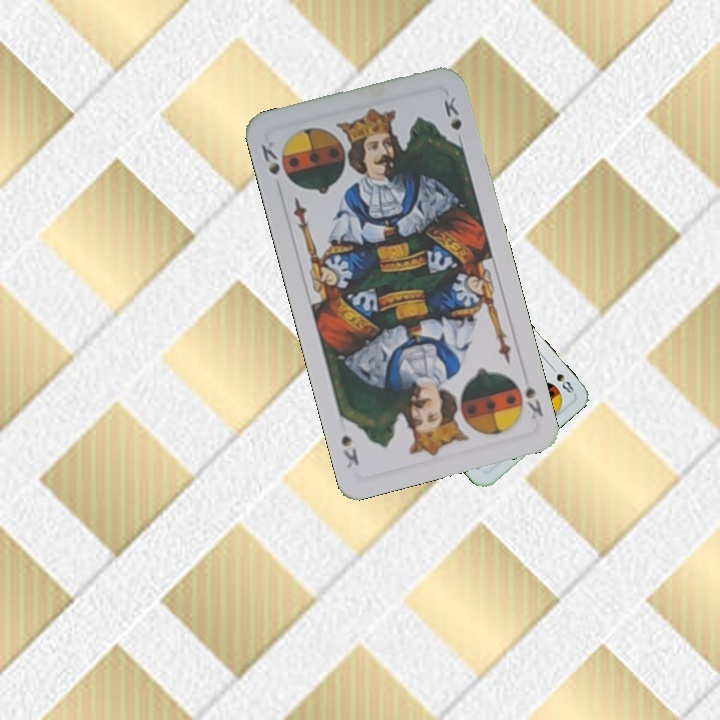S8: (546, 361, 577, 396)
SK: (257, 137, 283, 178), (521, 380, 546, 422)
